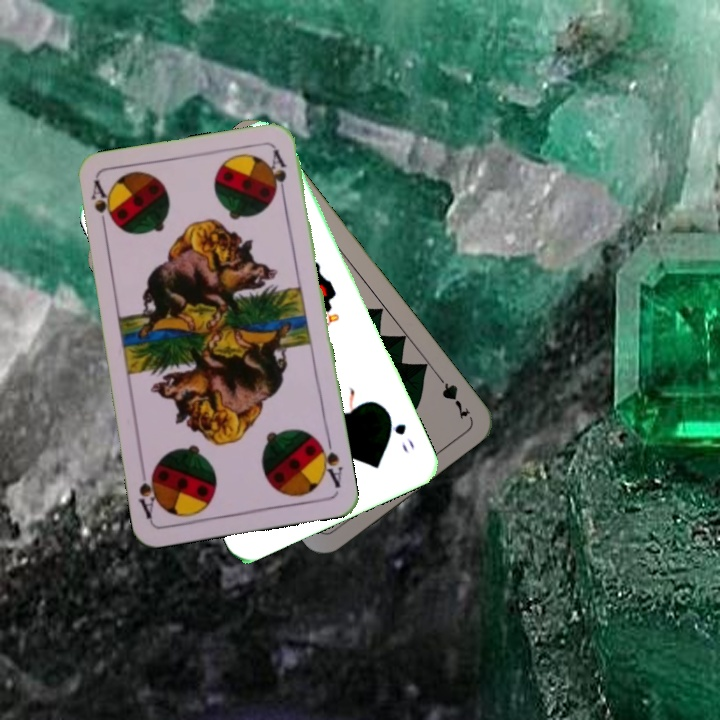G7: (431, 368, 473, 422)
GO: (383, 408, 417, 455)
SA: (313, 432, 345, 491), (87, 177, 115, 236)
